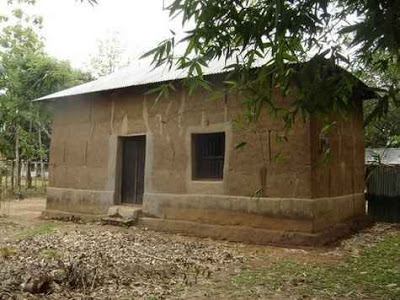Mud House: (31, 45, 371, 237)
